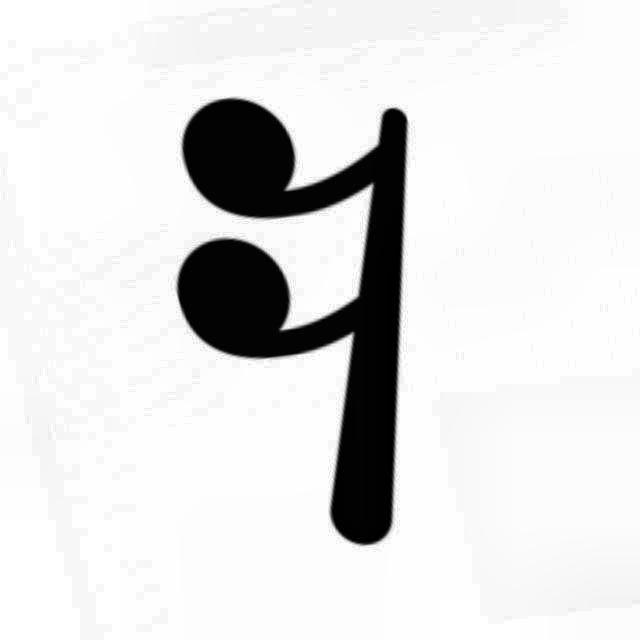Eighth-rest: (153, 83, 474, 564)
